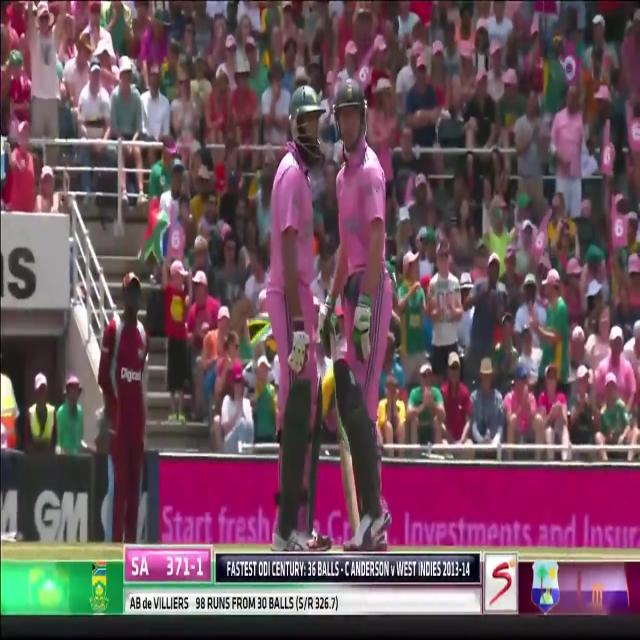Ball: (256, 65, 390, 552)
